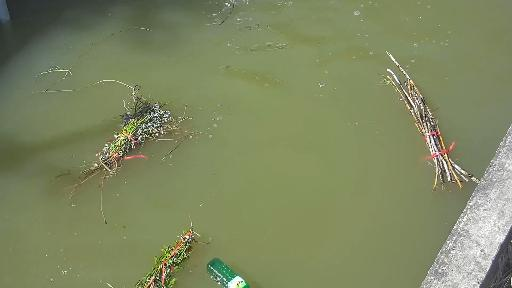plastic: (206, 253, 252, 288)
twig: (38, 18, 173, 211), (371, 47, 509, 198), (117, 213, 206, 288), (216, 0, 250, 30)
